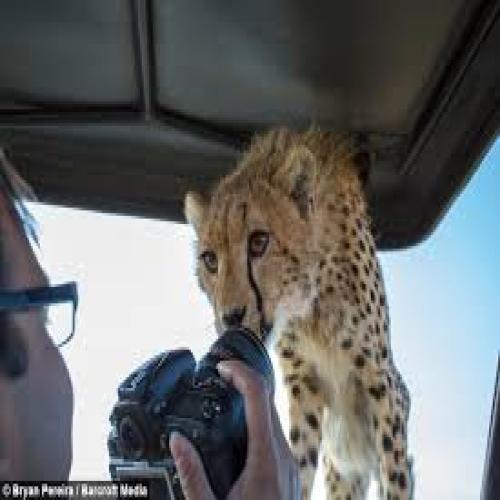cheetah-endangered: (178, 119, 415, 496)
